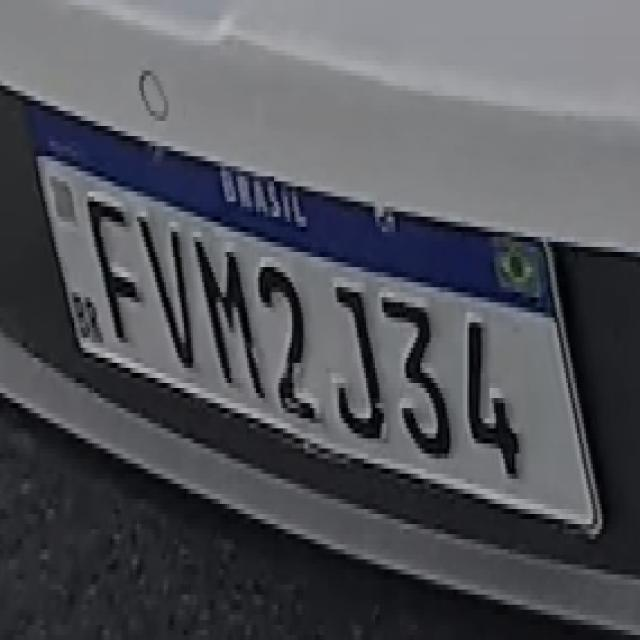Placa_mercosul_carro: (28, 107, 603, 538)
